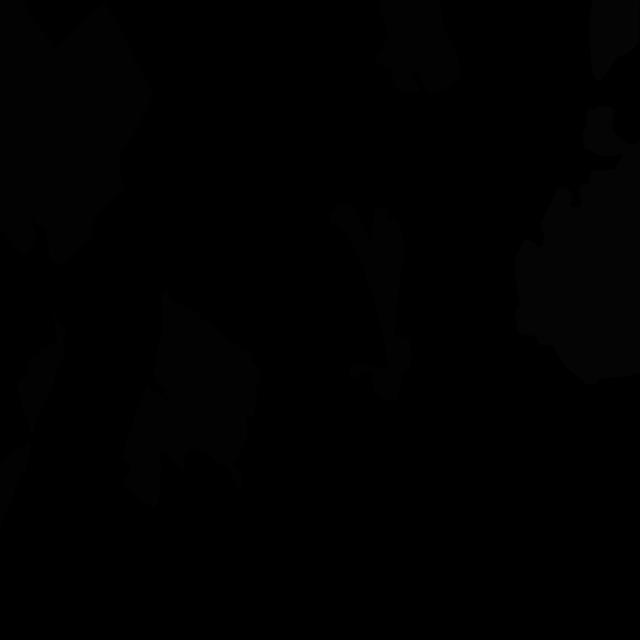cardboard: (122, 289, 260, 509), (330, 204, 412, 402), (373, 0, 461, 95), (16, 313, 67, 439), (0, 443, 31, 529)
soft_plastic: (514, 106, 640, 385), (589, 0, 640, 81)
